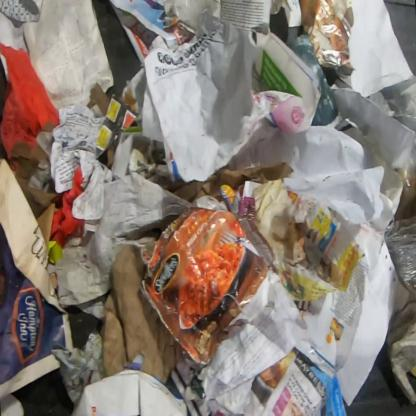cardboard: (138, 207, 275, 370), (101, 244, 184, 386), (10, 140, 60, 254), (286, 32, 343, 130), (86, 82, 139, 166)
soft_plastic: (376, 205, 415, 315), (378, 74, 415, 132)
